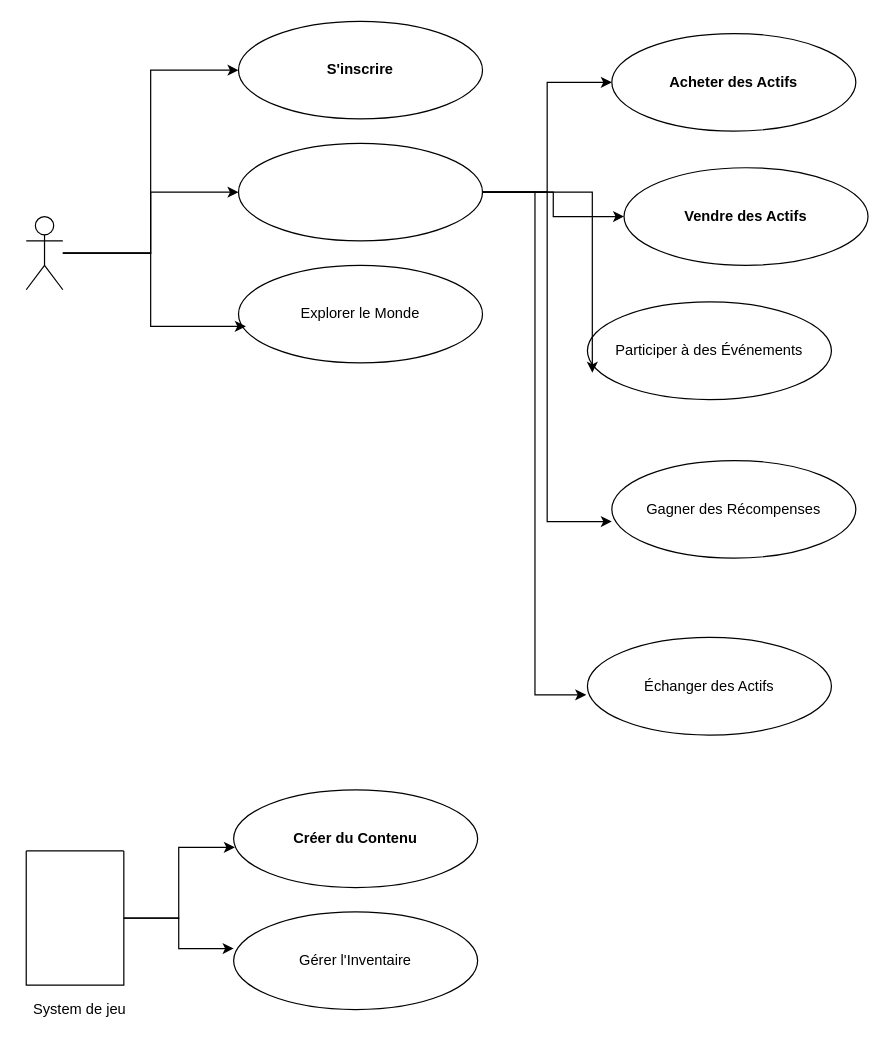
This 889x1055 diagram has some shape labels left out. Here are the shapes that lost their labels. From the top down, the centre of each, then its label:
At point 360,191: "Se connecter".
At point 44,252: "PLayer".
